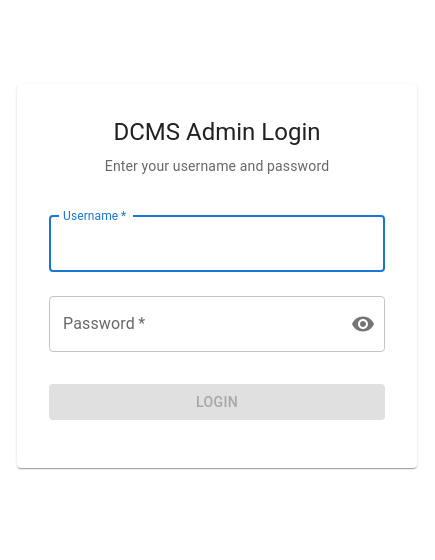
Scenario: AdminLogin › shows a network-specific message when the API is unreachable
In the field labelled "Username *": coordinates (217, 244) [49,216,385,272], type "alice"
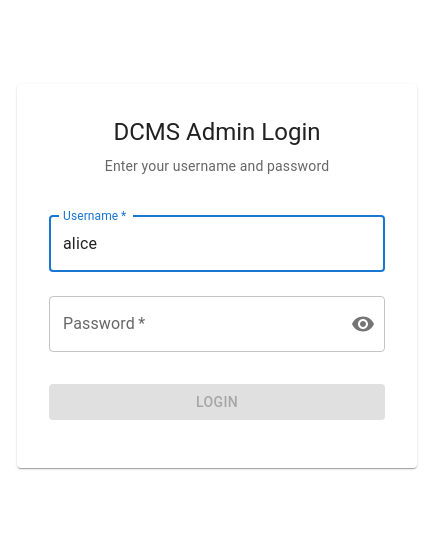
In the password field labelled "Password *": coordinates (192, 324) [49,296,335,352], type "hunter2"
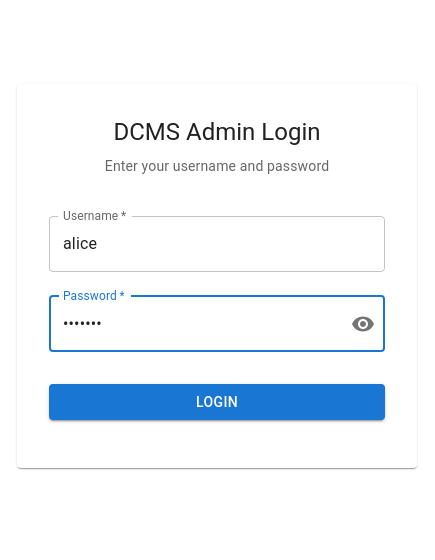
Click the button "Login": coordinates (217, 402) [49,384,385,420]
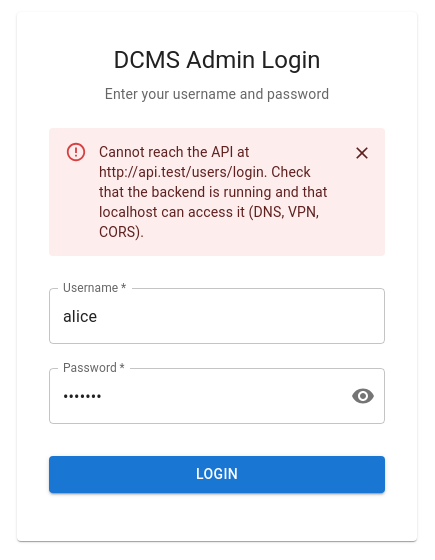
Expected: the text "Cannot reach the API at http://api.test" is shown, [99,144,328,240]
